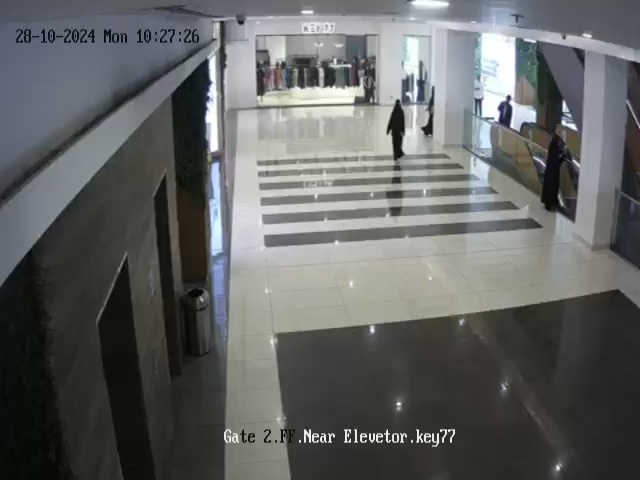female: (541, 130, 572, 219), (386, 99, 406, 161), (420, 87, 434, 137)
male: (472, 73, 488, 127), (497, 94, 513, 128)
other: (414, 58, 430, 103)
